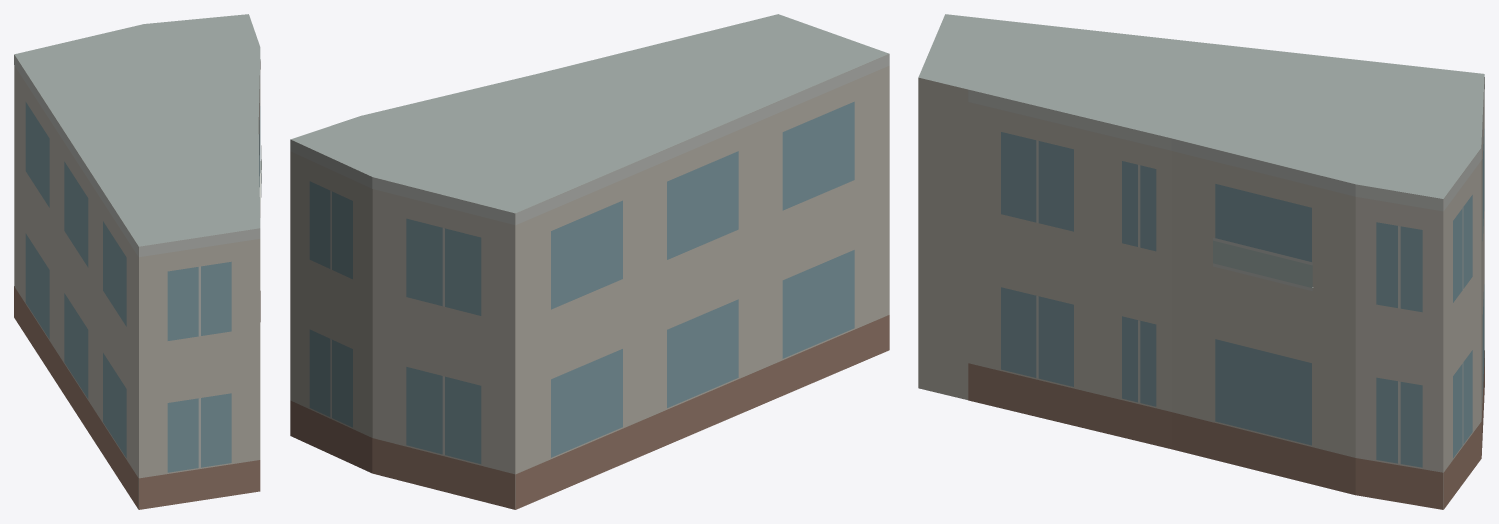
Rendered from survey-upis-33013805.glb.
3 views of the same model, side by side, from view 1: azimuth 30°, elevation 25°; view 2: azimuth 150°, elevation 25°; view 3: azimuth 270°, elevation 25° (orthographic). The views are drawn at different scales.
Parts seen in each view (by area): view 1: survey-upis-33013805.tmp; view 2: survey-upis-33013805.tmp; view 3: survey-upis-33013805.tmp.
Boxes of the visible parts, x1,y1,x2,y2 form: survey-upis-33013805.tmp: [14, 14, 261, 509]; survey-upis-33013805.tmp: [290, 14, 889, 509]; survey-upis-33013805.tmp: [918, 14, 1484, 509].
Bounding box in the file's own units: 7.8 × 6.1 × 10.09.
